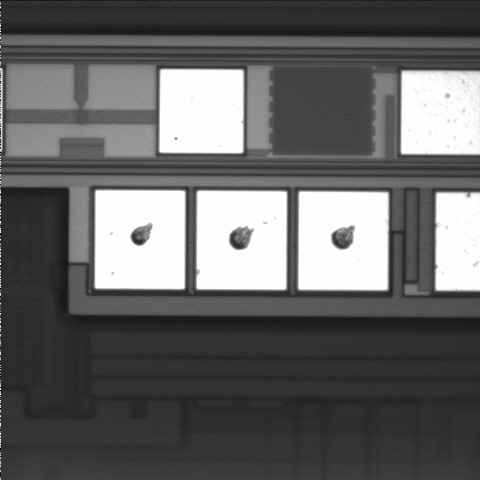pad: (95, 190, 185, 289), (197, 191, 287, 290), (298, 192, 388, 290), (160, 69, 243, 153)
